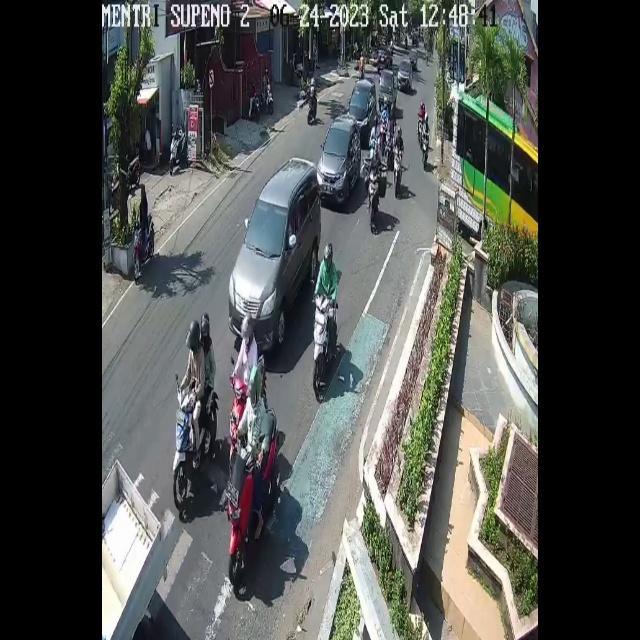bus: (227, 407, 280, 587), (174, 374, 217, 509), (232, 354, 266, 448), (312, 294, 338, 397), (132, 213, 156, 281), (368, 170, 381, 231), (394, 147, 402, 198), (263, 83, 275, 115), (420, 131, 430, 168), (306, 94, 318, 124), (249, 93, 261, 121), (386, 131, 394, 168), (379, 117, 386, 151), (418, 116, 423, 138)
car: (452, 87, 538, 246)
motorcycle: (228, 157, 321, 352), (315, 115, 360, 208), (346, 78, 378, 146), (379, 69, 399, 111), (398, 58, 413, 91)
